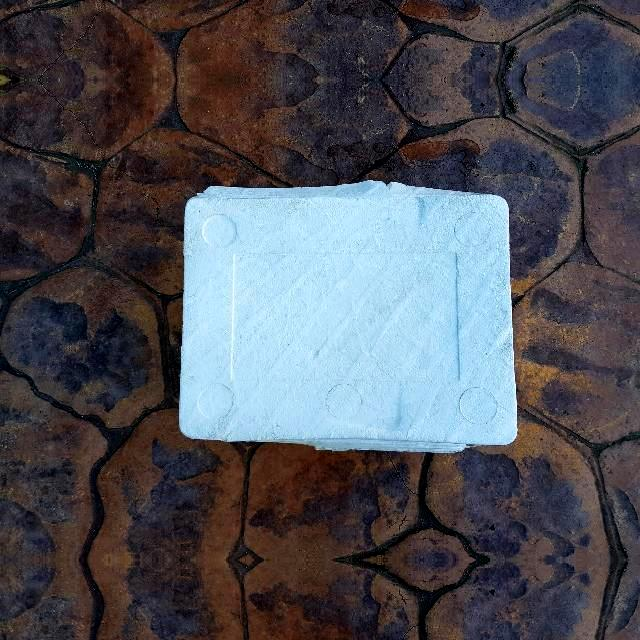Styrofoam: (177, 180, 518, 454), (179, 180, 518, 453)
